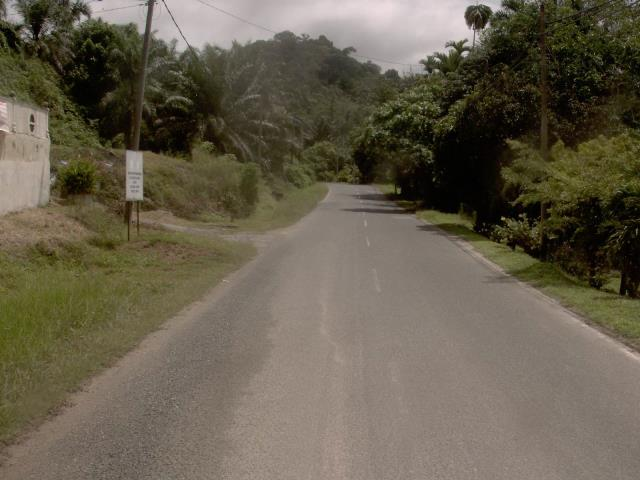ads_sign: (117, 145, 151, 208)
